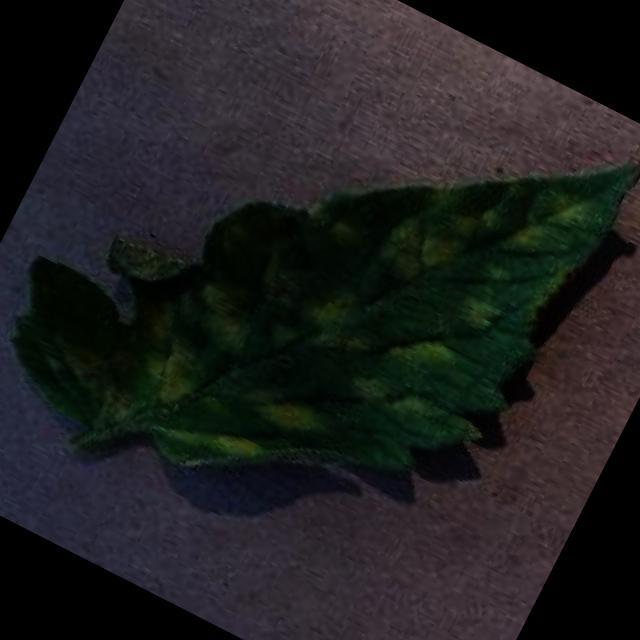Tomato mold leaf: (0, 0, 640, 596)
